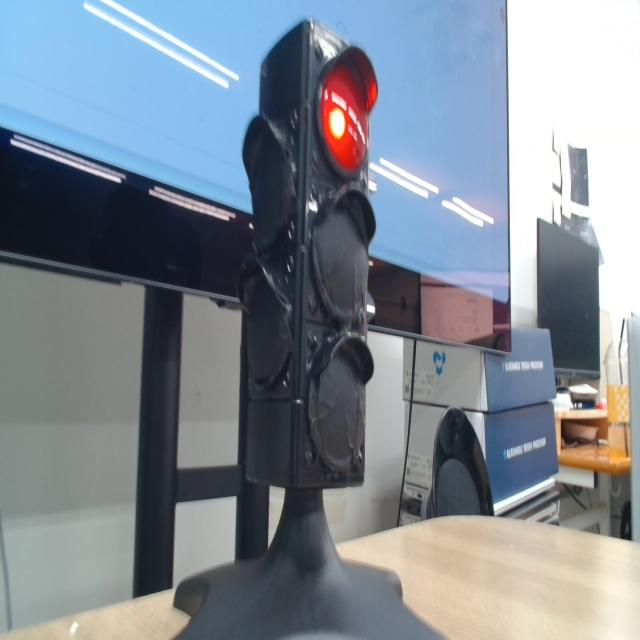red_light: (321, 64, 368, 173)
